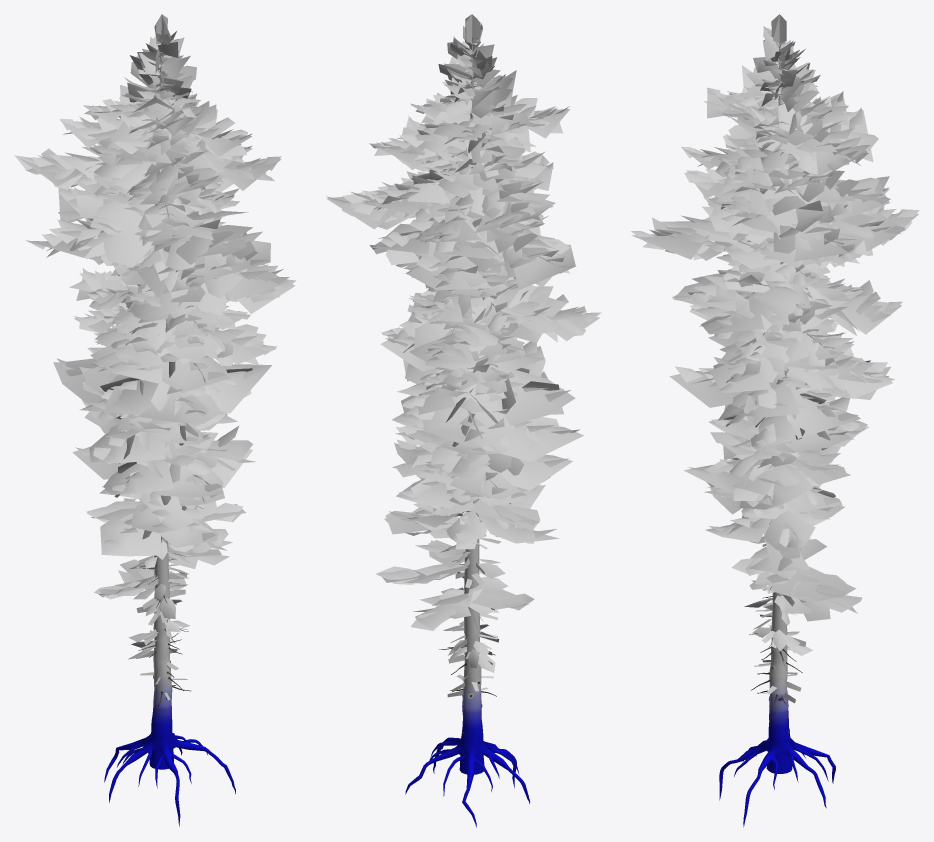
File: Tree3_LOD0.fbx
3 renders of one model, left to right at view 1: azimuth 30°, elevation 25°; view 2: azimuth 150°, elevation 25°; view 3: azimuth 270°, elevation 25°, orthographic.
Visible parts, largest first — view 1: polySurface1758; view 2: polySurface1758; view 3: polySurface1758.
Part boxes in pixels (bbox=[...]): polySurface1758: bbox=[14, 14, 296, 826]; polySurface1758: bbox=[326, 14, 601, 827]; polySurface1758: bbox=[631, 14, 919, 827].
Size of the model in its own units: 803 by 2627 by 869.
